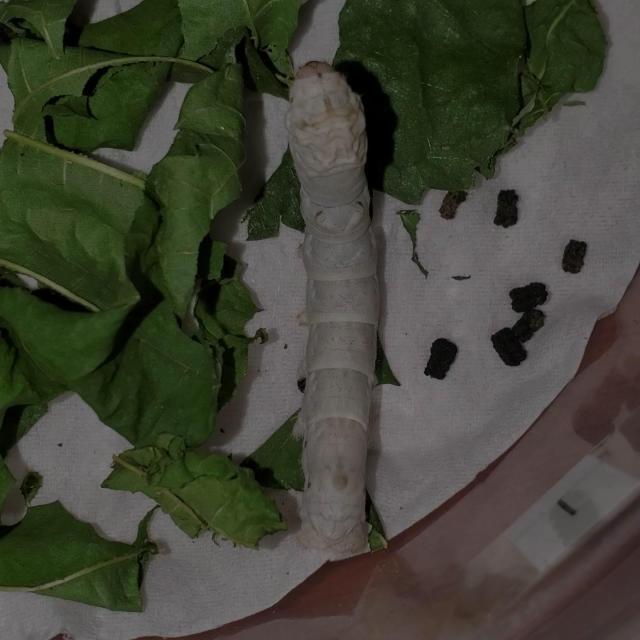Healthy: (234, 34, 450, 572)
